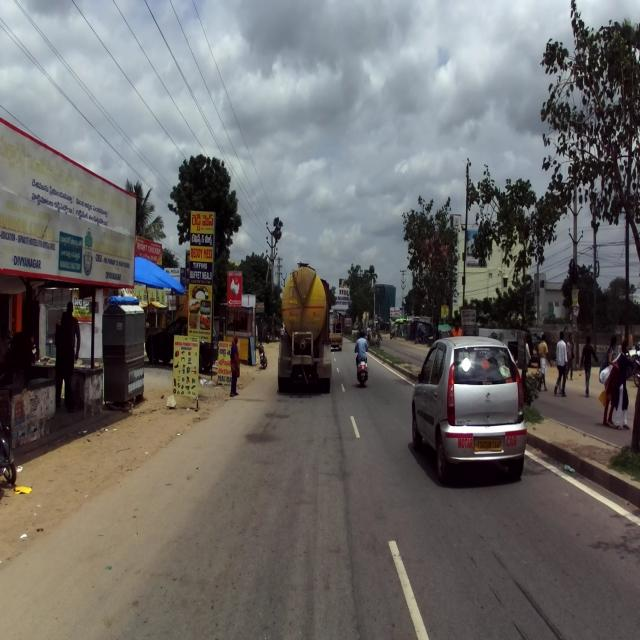car: (409, 331, 526, 482), (143, 315, 218, 373)
truck: (276, 257, 333, 396)
